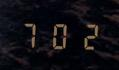seven: (18, 19, 44, 49)
two: (73, 20, 99, 50)
zero: (46, 19, 72, 50)
